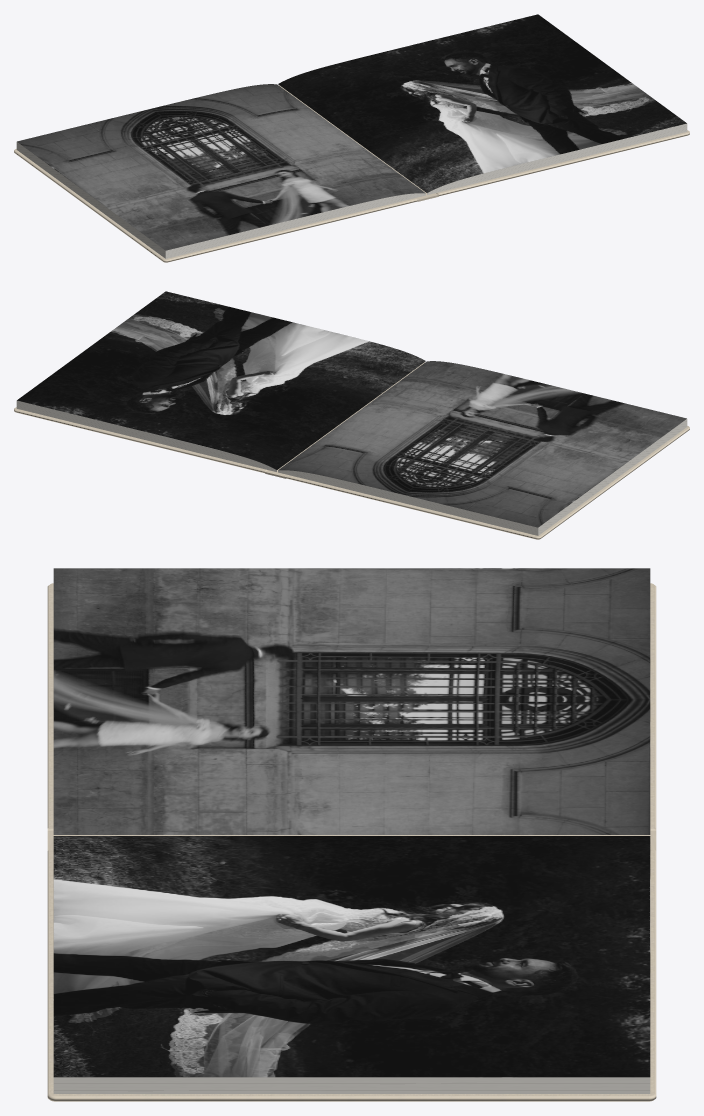
File: album-acik.glb
The picture shows the model from 3 angles, top to bottom: view 1: azimuth 30°, elevation 25°; view 2: azimuth 150°, elevation 25°; view 3: azimuth 270°, elevation 25°; orthographic projection. The views are drawn at different scales.
Visible parts, largest first — view 1: Album; view 2: Album; view 3: Album.
Part boxes in pixels (box(x1,y1,x2,y2)): Album: box(14, 14, 689, 262); Album: box(14, 291, 689, 539); Album: box(47, 568, 656, 1101).
Bounding box in the file's own units: 0.5996 × 0.0122 × 0.3.
3 materials, 3 textured.
